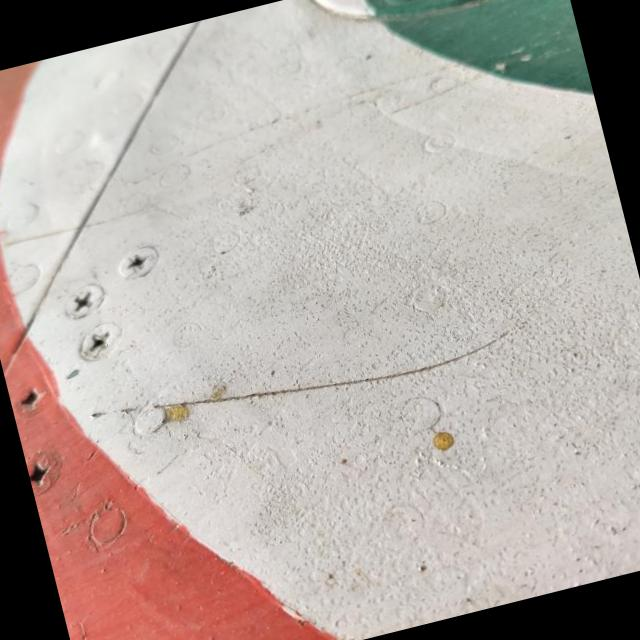Scratch: (115, 328, 520, 424)
